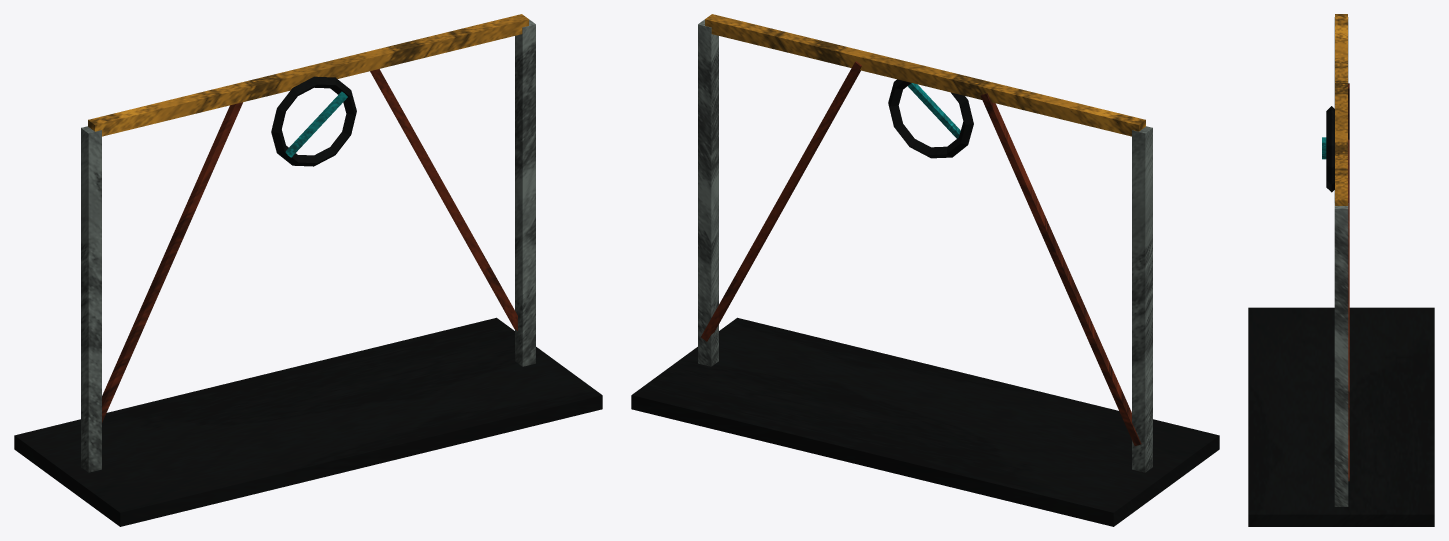
File: launch-shadow-gate.glb
3 renders of one model, left to right at view 1: azimuth 30°, elevation 25°; view 2: azimuth 150°, elevation 25°; view 3: azimuth 270°, elevation 25°, orthographic. The views are drawn at different scales.
Visible parts, largest first — view 1: launch-shadow-gate; view 2: launch-shadow-gate; view 3: launch-shadow-gate.
Boxes of the visible parts, <box> form: launch-shadow-gate: <box>14,14,602,526</box>; launch-shadow-gate: <box>631,14,1219,526</box>; launch-shadow-gate: <box>1248,14,1434,526</box>.
Size of the model in its own units: 10 by 7.13 by 3.8.
Materials: 1 (1 with a texture image).
